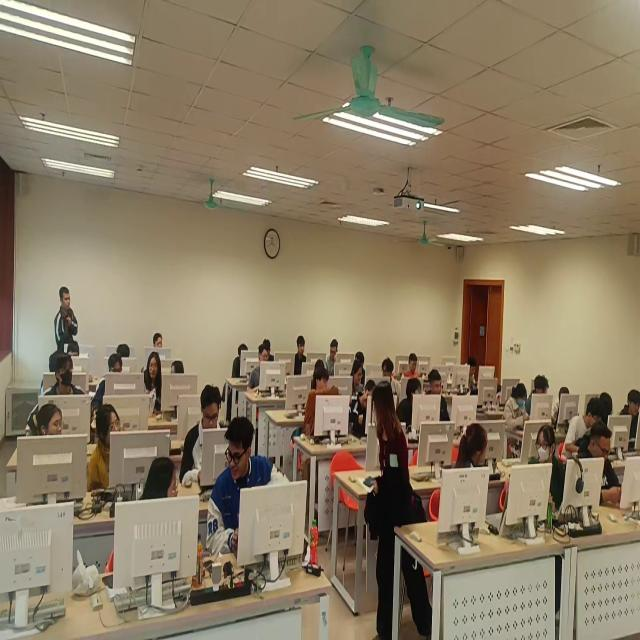raise_head: (44, 355, 88, 396), (144, 352, 163, 416), (154, 332, 164, 349)
stand: (372, 379, 434, 640), (55, 285, 80, 357)
using_computer: (181, 386, 223, 490), (564, 398, 601, 455), (92, 355, 123, 403), (619, 389, 640, 452), (504, 382, 530, 431), (248, 346, 270, 393), (526, 376, 550, 417), (233, 344, 250, 379), (553, 387, 570, 421), (295, 337, 308, 376), (327, 339, 340, 376), (352, 360, 365, 397), (600, 393, 613, 428), (406, 354, 419, 380), (265, 340, 276, 363), (118, 345, 132, 359), (316, 360, 326, 372)
using_phone: (577, 421, 623, 510), (466, 357, 479, 395)
